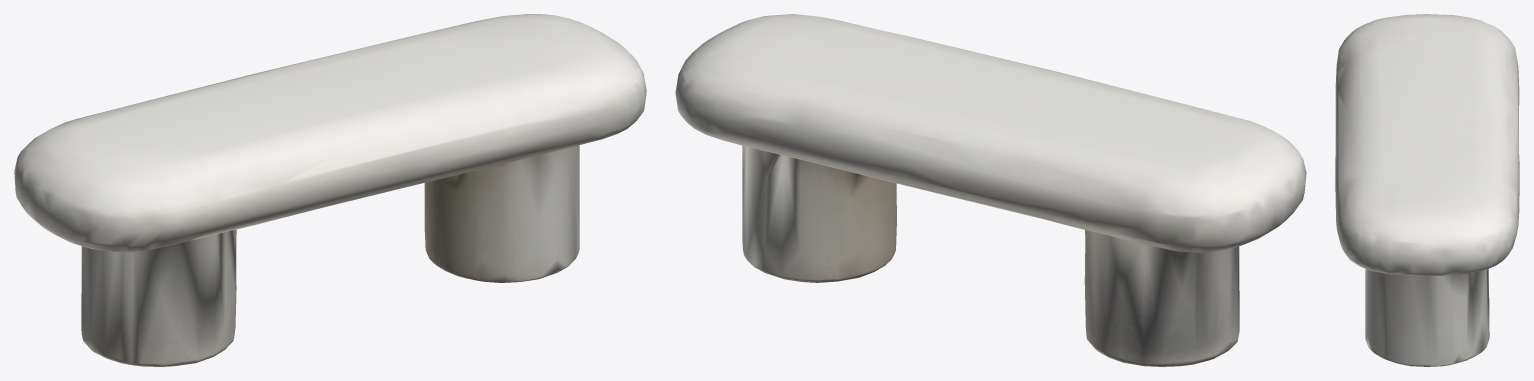
3 renders of one model, left to right at view 1: azimuth 30°, elevation 25°; view 2: azimuth 150°, elevation 25°; view 3: azimuth 270°, elevation 25°, orthographic. The views are drawn at different scales.
Visible parts, largest first — view 1: geometry_0; view 2: geometry_0; view 3: geometry_0.
Part boxes in pixels (bbox=[...]): geometry_0: bbox=[14, 14, 646, 366]; geometry_0: bbox=[675, 14, 1306, 366]; geometry_0: bbox=[1335, 14, 1519, 366].
Size of the model in its own units: 1 by 0.3313 by 0.3391.
Materials: 1 (1 with a texture image).
